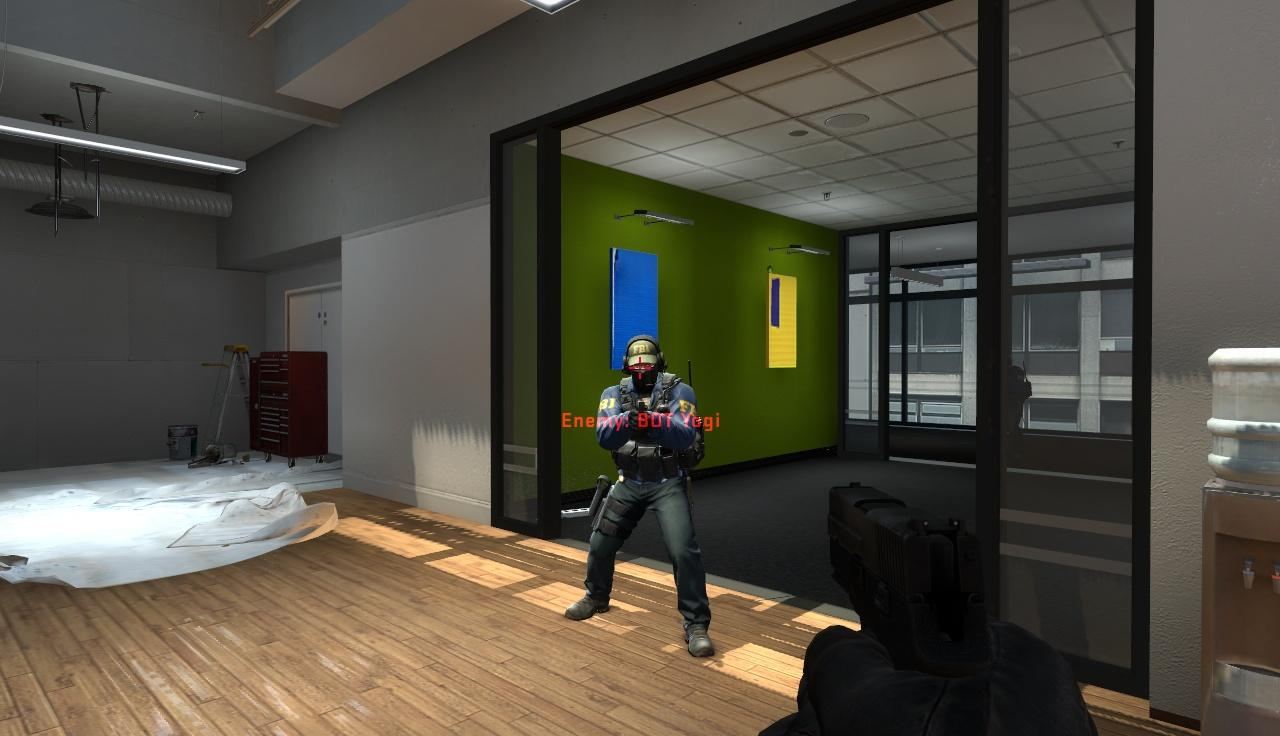ct: (590, 336, 708, 662)
cthead: (622, 335, 666, 385)
pistol: (812, 478, 1076, 736)
